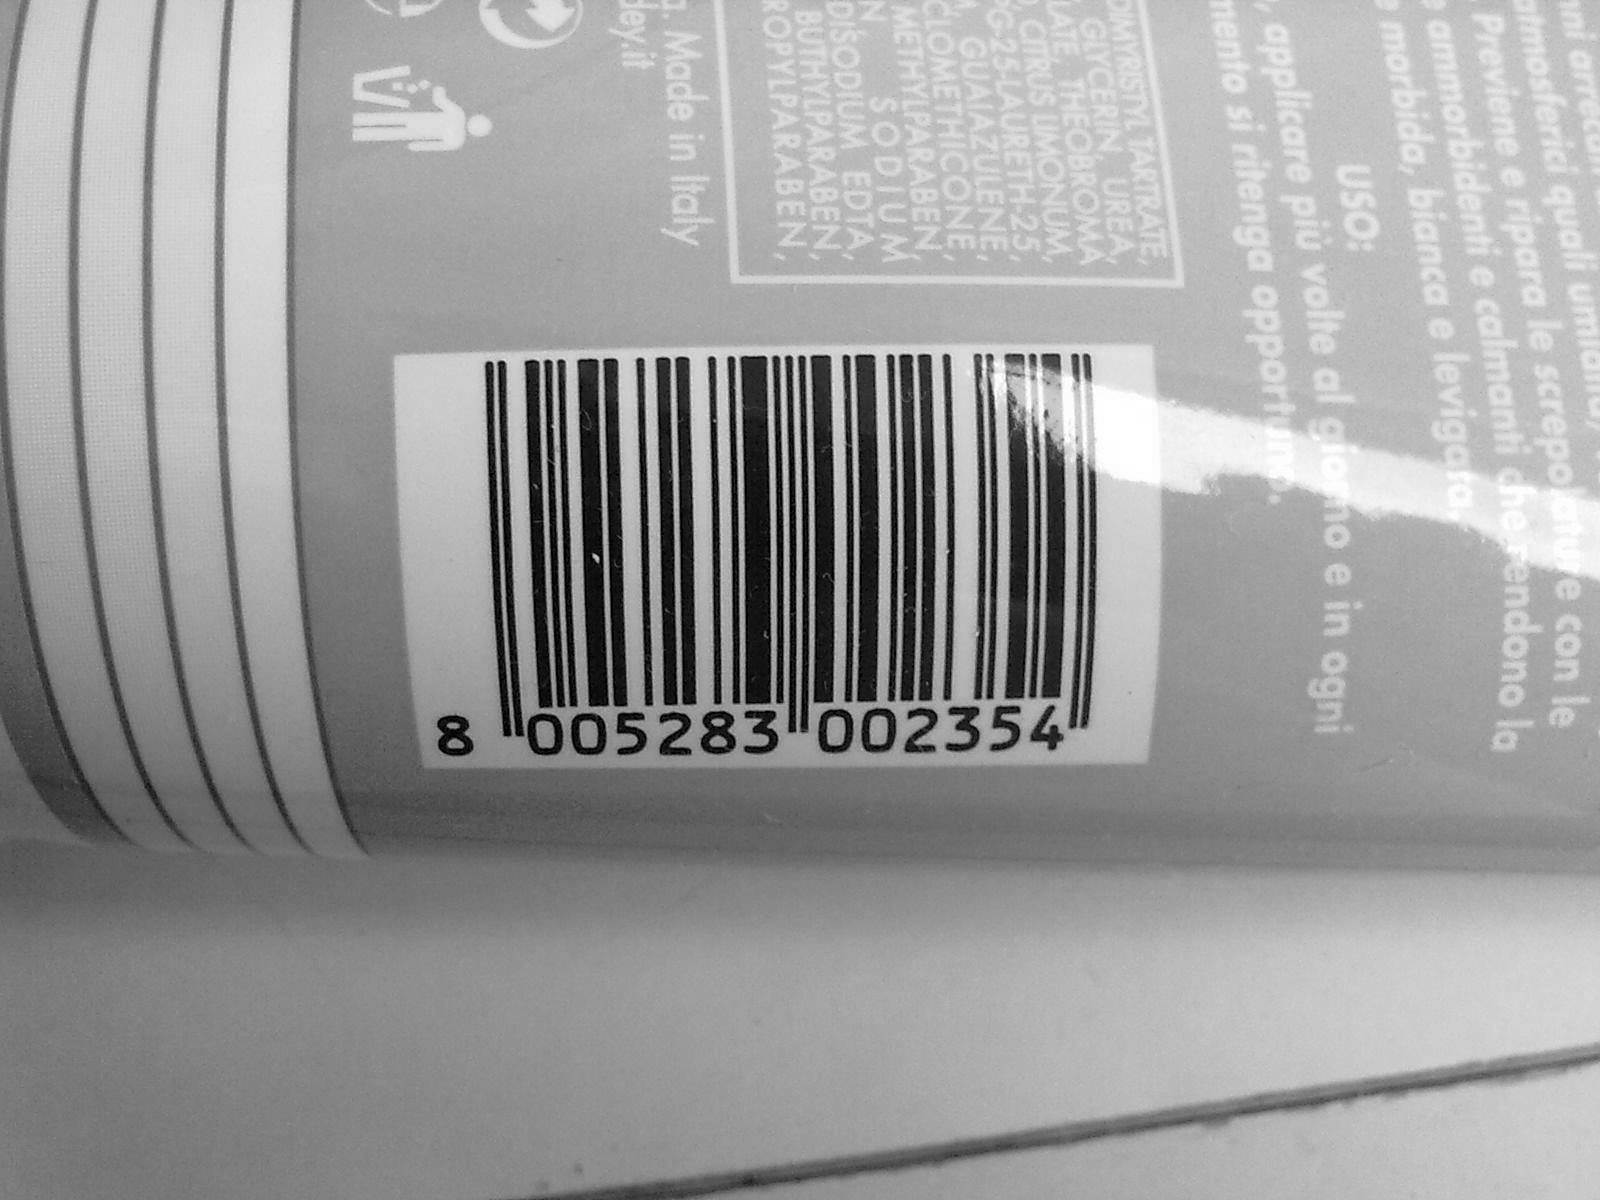Barcode: (445, 353, 1130, 788)
